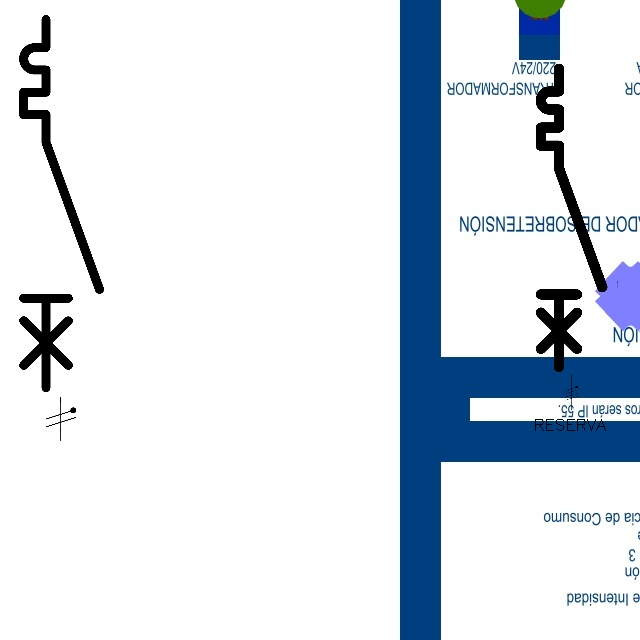interruptor_termomagnetico: (14, 10, 108, 397), (533, 61, 610, 375)
